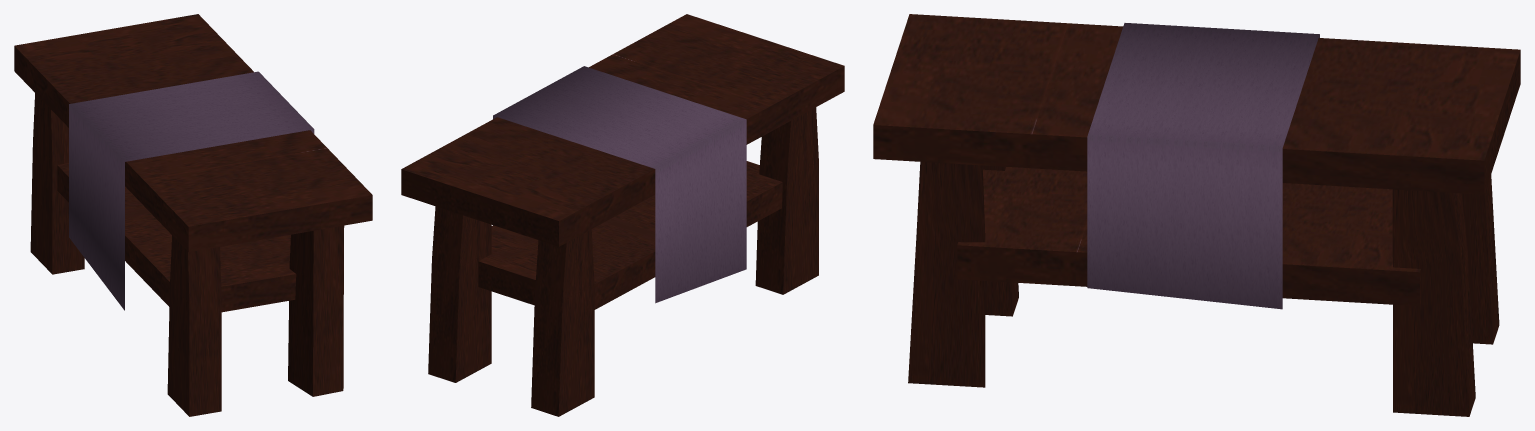
Rendered from Table1.fbx.
The picture shows the model from 3 angles, left to right: view 1: azimuth 30°, elevation 25°; view 2: azimuth 150°, elevation 25°; view 3: azimuth 270°, elevation 25°; orthographic projection. The views are drawn at different scales.
Parts seen in each view (by area): view 1: Table1; view 2: Table1; view 3: Table1.
Part boxes in pixels (x1,y1,x2,y2): Table1: (14, 14, 372, 416); Table1: (401, 14, 844, 416); Table1: (873, 14, 1520, 416).
Size of the model in its own units: 1.69 by 1.48 by 3.16.
